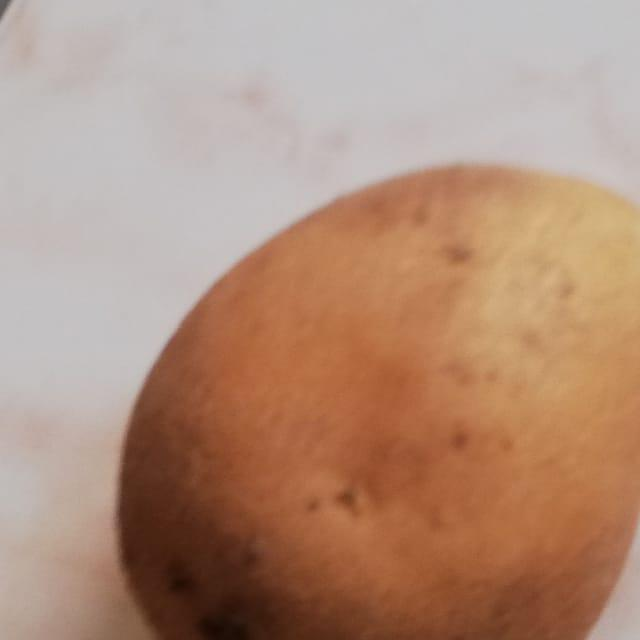potato: (106, 154, 640, 640)
